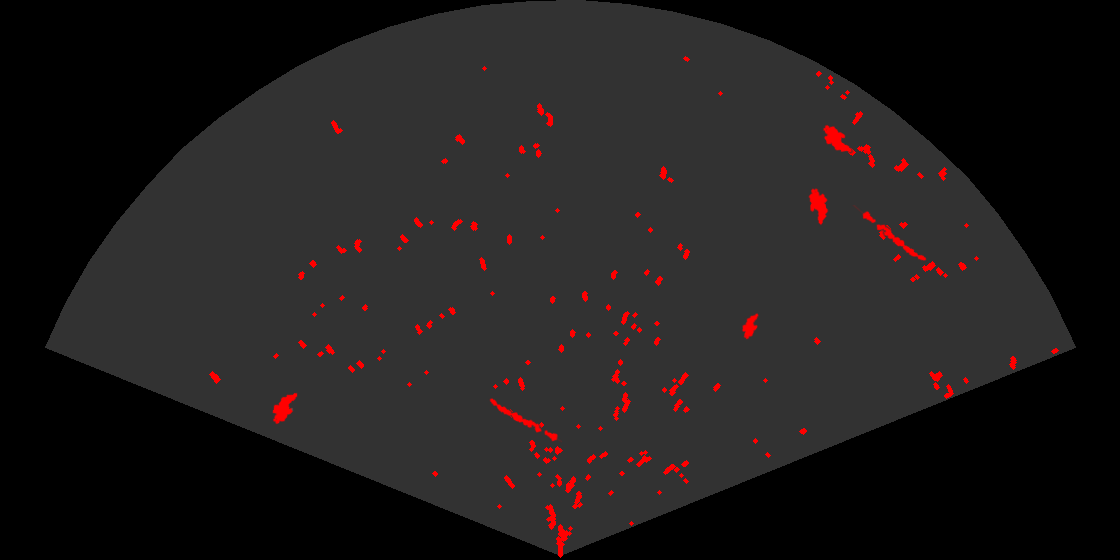AUV: (822, 123, 854, 154), (271, 391, 299, 426), (807, 187, 830, 227), (740, 312, 760, 341)
chain: (851, 205, 928, 262), (488, 397, 562, 444)
